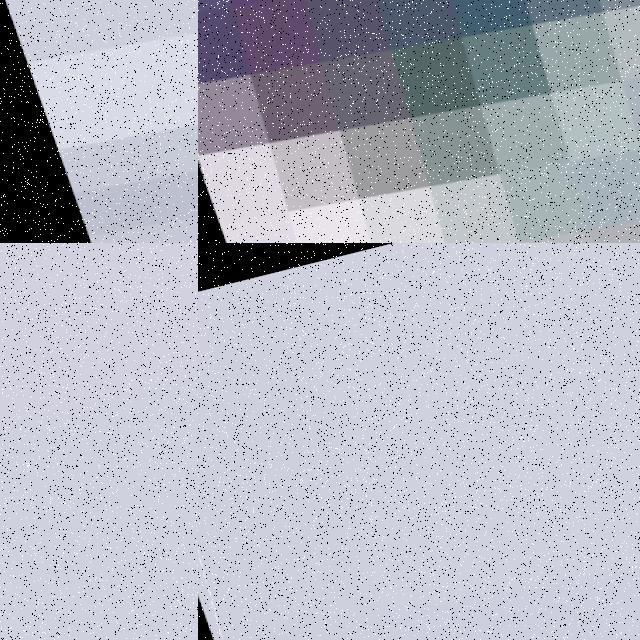drone: (198, 243, 640, 640), (198, 0, 640, 243), (0, 0, 198, 243)
